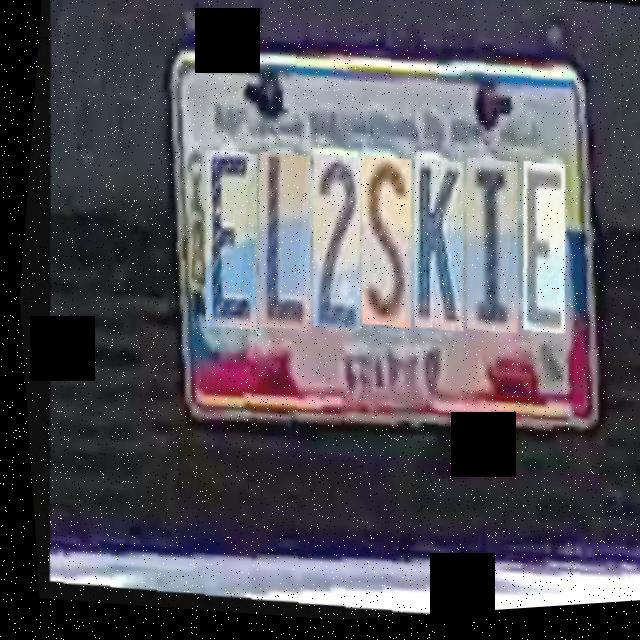2: (281, 149, 372, 331)
E: (174, 145, 268, 333), (491, 155, 575, 333)
I: (435, 152, 527, 333)
K: (383, 152, 473, 332)
L: (226, 147, 321, 333)
S: (329, 149, 421, 329)
